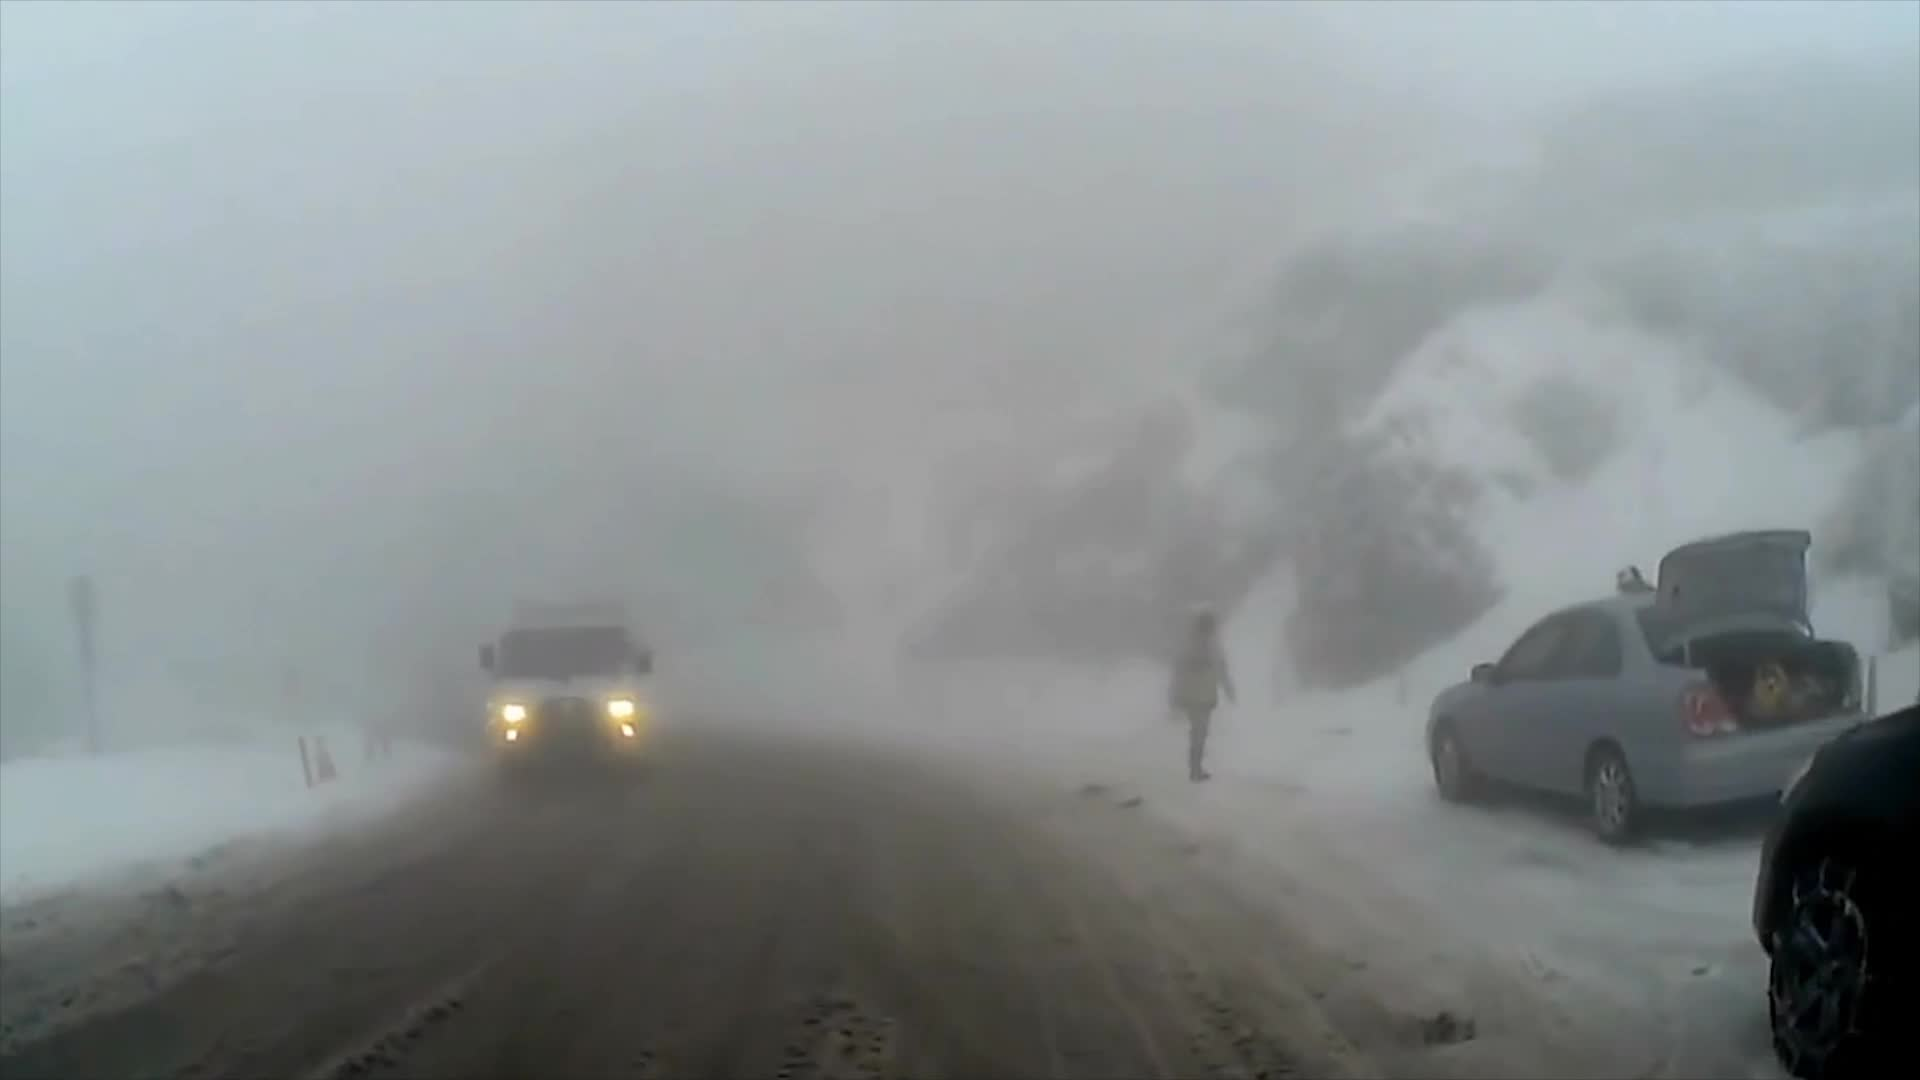pedestrian: (1165, 606, 1235, 788)
vehicle: (1422, 523, 1882, 846), (1753, 698, 1919, 1079), (473, 598, 654, 797)
